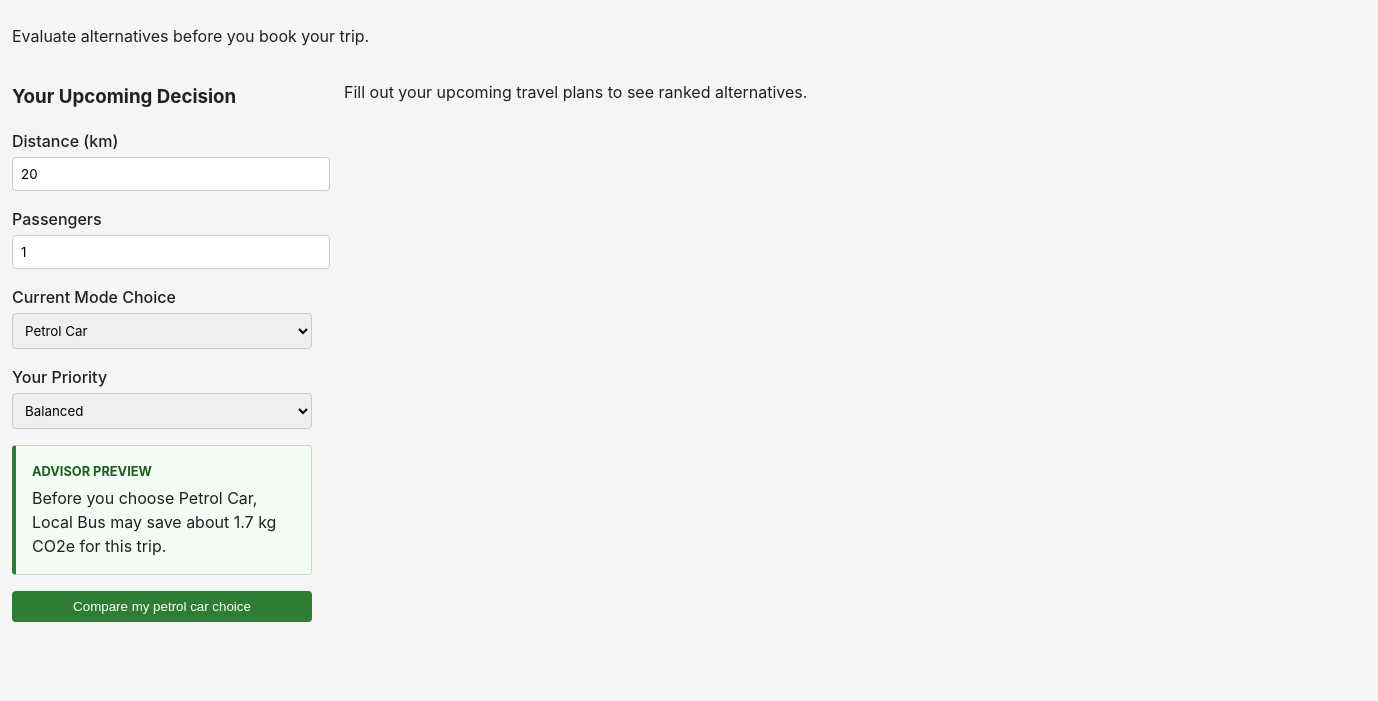
Test: TravelDecisionUI › renders the receipt trust strip and 10-year fork
The width and height of the screenshot is (1378, 701).
Click the button "Compare my petrol car choice".
click(162, 606)  # box [12,590,312,622]
(page scrolled)
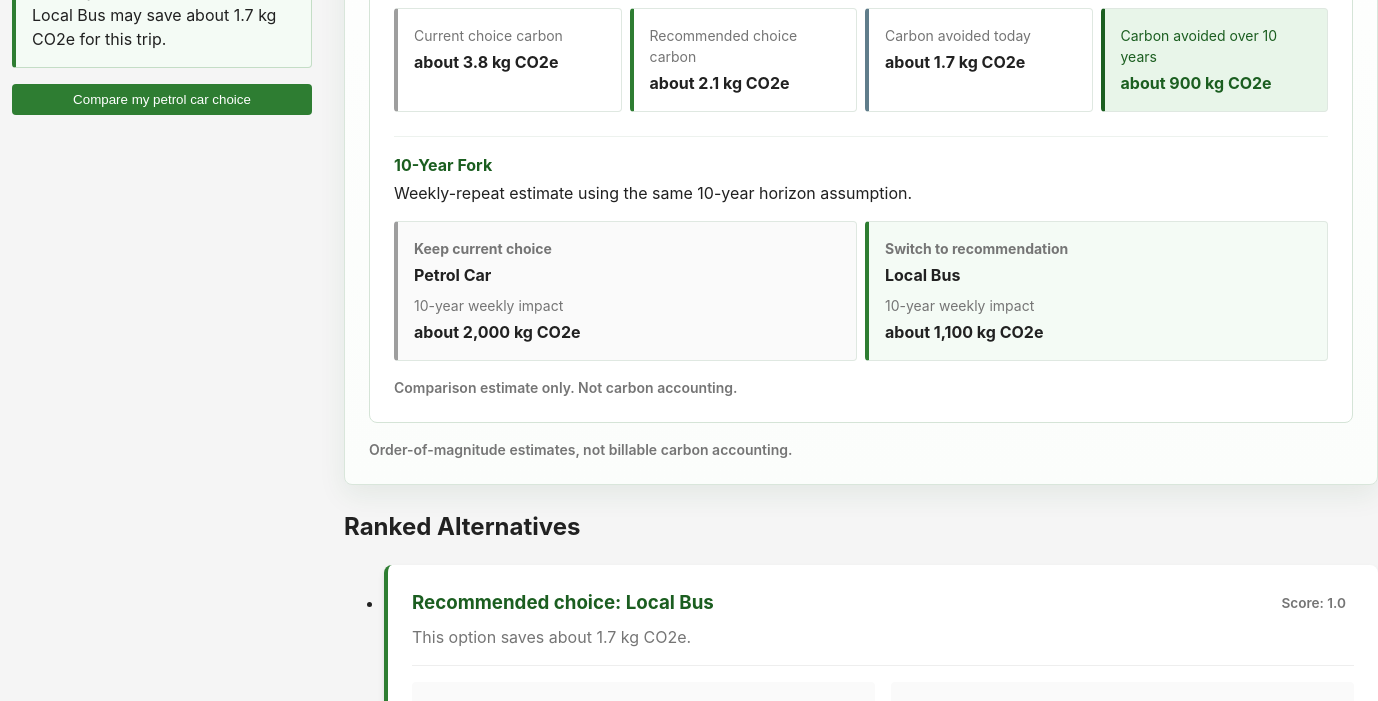
Expected: the heading "10-Year Fork" is shown, [394,155,492,175]
Expected: the text "Keep current choice" is shown, [414,240,552,257]
Expected: the text "Switch to recommendation" is shown, [885,240,1068,257]
